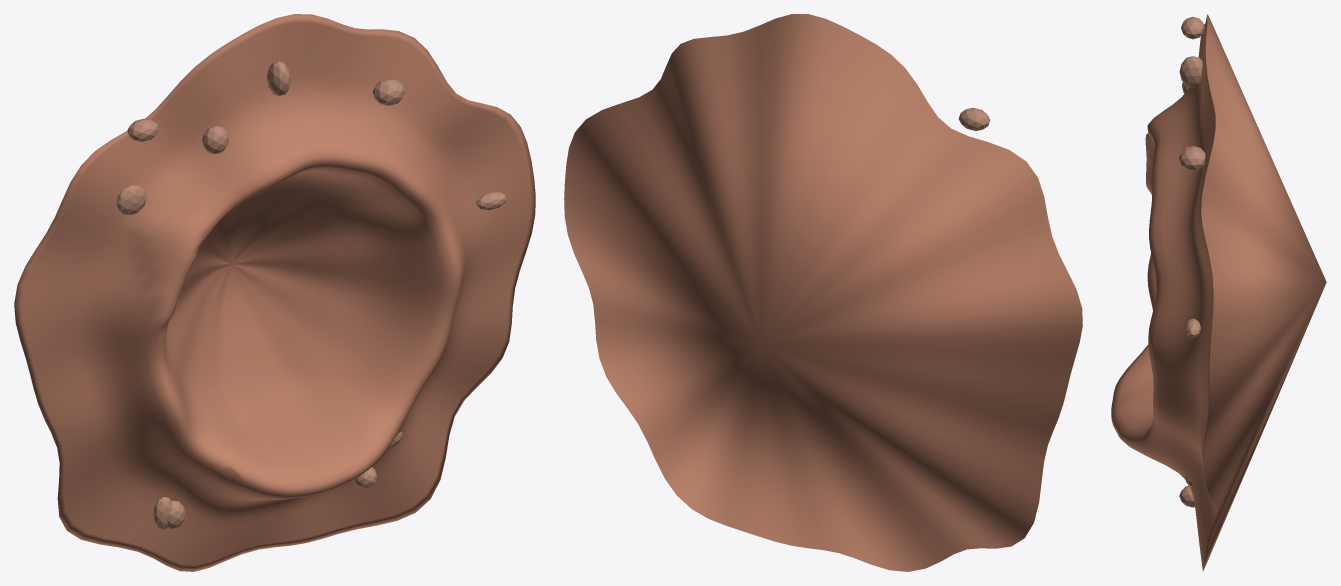
File: Mars_Impact_Crater.glb
The picture shows the model from 3 angles, left to right: view 1: azimuth 30°, elevation 25°; view 2: azimuth 150°, elevation 25°; view 3: azimuth 270°, elevation 25°; orthographic projection. The views are drawn at different scales.
Visible parts, largest first — view 1: Mars_Impact_Crater_Terrain, Crater_Rock_02, Crater_Rock_05, Crater_Rock_03; view 2: Mars_Impact_Crater_Terrain; view 3: Mars_Impact_Crater_Terrain, Crater_Rock_03, Crater_Rock_05, Crater_Rock_07.
Part boxes in pixels (left/top/right/bottom): Mars_Impact_Crater_Terrain: left=14, top=14, right=535, bottom=571; Crater_Rock_02: left=116, top=185, right=146, bottom=214; Crater_Rock_05: left=372, top=78, right=405, bottom=105; Crater_Rock_03: left=267, top=61, right=290, bottom=95; Mars_Impact_Crater_Terrain: left=564, top=14, right=1082, bottom=571; Mars_Impact_Crater_Terrain: left=1111, top=14, right=1326, bottom=571; Crater_Rock_03: left=1179, top=56, right=1202, bottom=87; Crater_Rock_05: left=1179, top=146, right=1205, bottom=171; Crater_Rock_07: left=1181, top=16, right=1204, bottom=39.
Size of the model in its own units: 2.05 by 2.02 by 0.7978.
